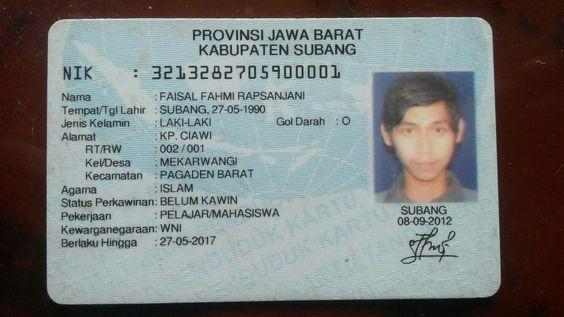ID-card: (49, 21, 499, 297)
